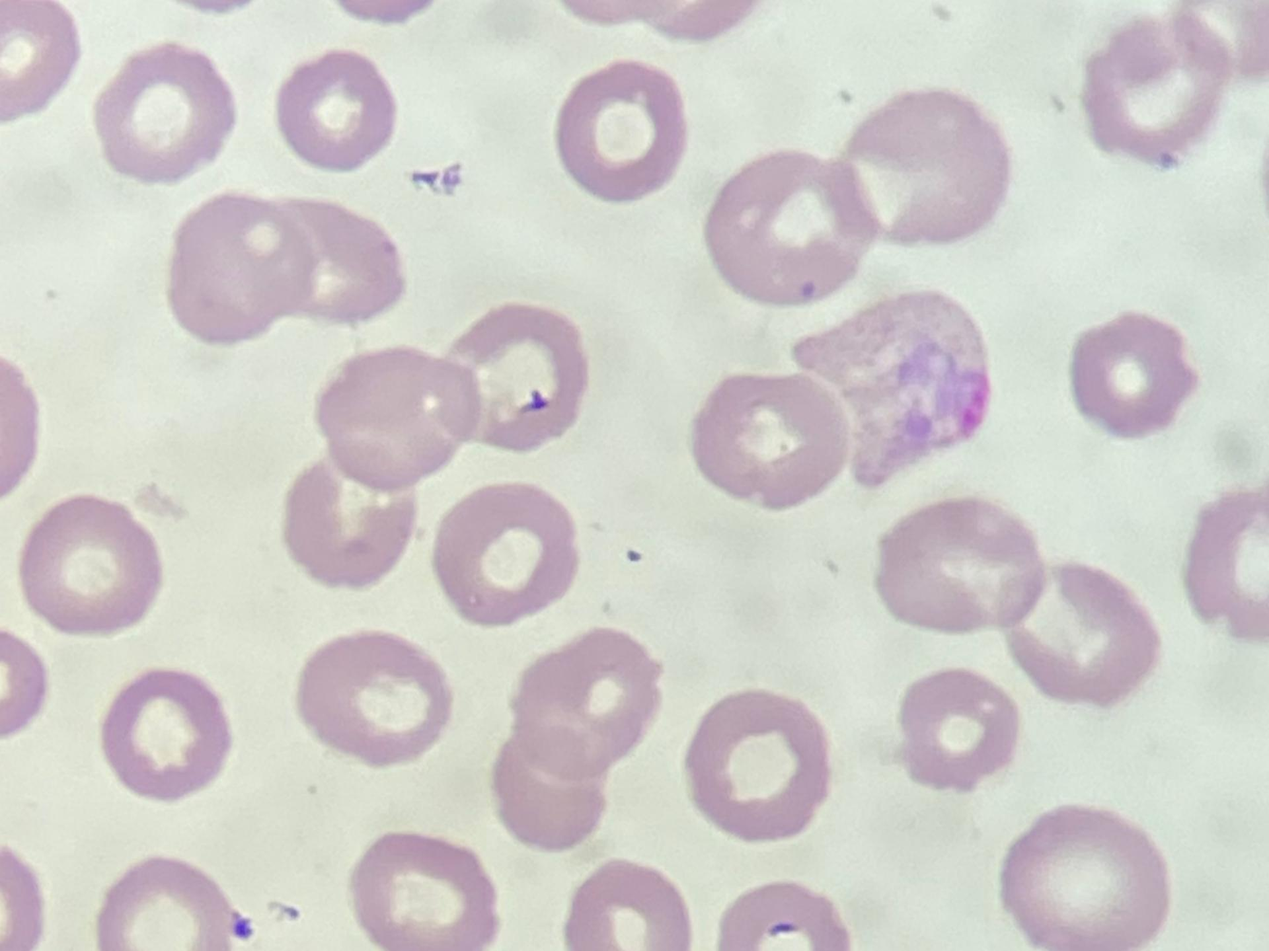Infected: (797, 293, 991, 481)
Uninfected: (493, 628, 661, 845), (175, 192, 403, 341), (845, 92, 1011, 244), (709, 155, 869, 305), (999, 806, 1169, 946), (876, 497, 1044, 633), (295, 632, 457, 769), (684, 690, 831, 840), (321, 353, 479, 491), (692, 373, 849, 509), (432, 482, 581, 625), (1015, 564, 1163, 704), (1082, 17, 1226, 160), (449, 304, 586, 451), (19, 496, 163, 634), (94, 43, 238, 181), (555, 60, 689, 200), (98, 667, 233, 800), (285, 459, 420, 590), (351, 832, 499, 949), (1069, 311, 1198, 436), (896, 668, 1022, 792), (276, 49, 399, 171), (97, 856, 239, 948), (1186, 487, 1267, 637), (565, 862, 691, 950), (3, 1, 79, 124), (720, 882, 850, 950), (260, 900, 301, 924)
